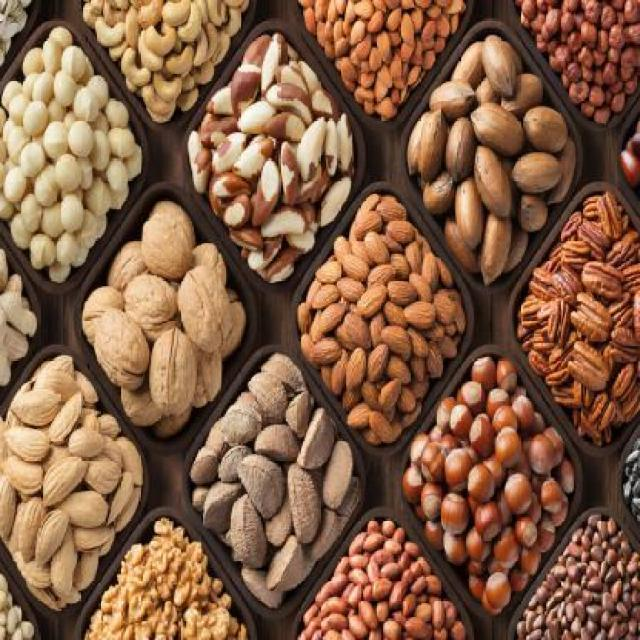Frutta secca: (416, 374, 582, 614), (304, 192, 460, 440), (196, 368, 358, 594), (2, 27, 144, 275), (2, 354, 140, 606), (420, 41, 563, 274), (196, 40, 347, 254), (88, 210, 230, 408), (522, 198, 638, 438), (77, 511, 246, 640), (83, 0, 249, 128), (288, 3, 470, 117), (296, 524, 467, 638)
